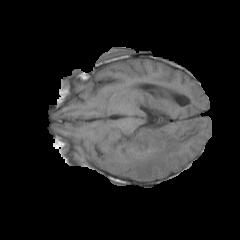glioma: (105, 87, 200, 179)
